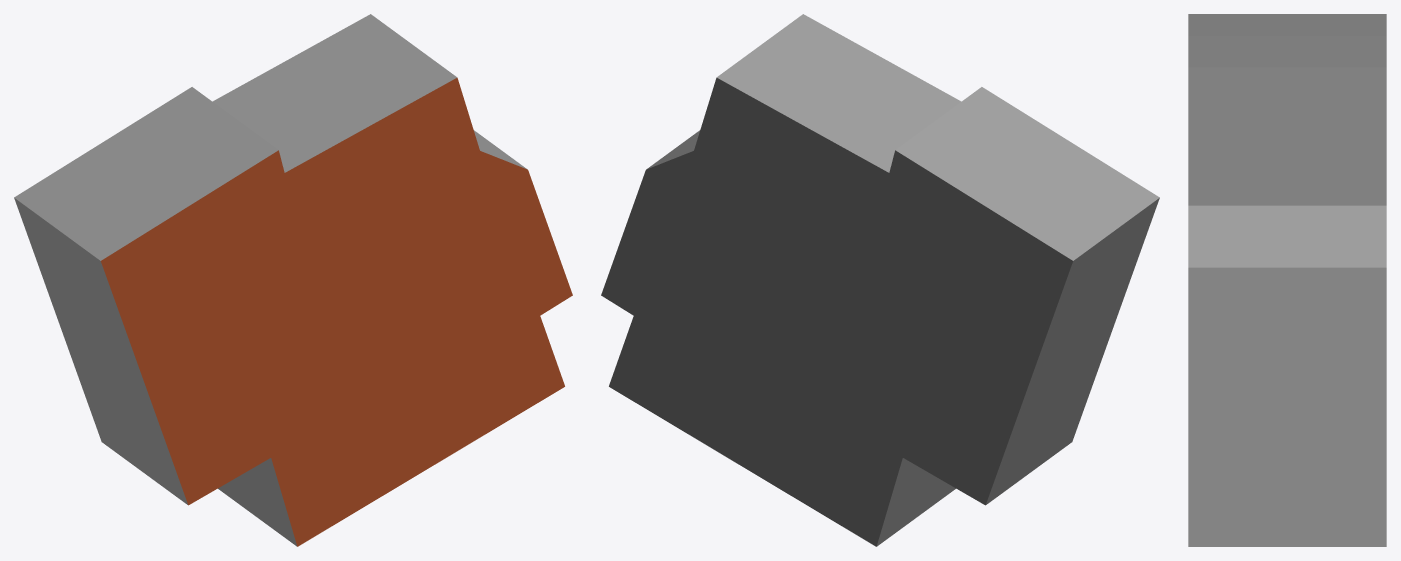
The model's file is construction_1069_assumed_A_Casa_h6m.obj.
3 renders of one model, left to right at view 1: azimuth 30°, elevation 25°; view 2: azimuth 150°, elevation 25°; view 3: azimuth 270°, elevation 25°, orthographic. The views are drawn at different scales.
Parts seen in each view (by area): view 1: construction_1069_assumed_A_Casa; view 2: construction_1069_assumed_A_Casa; view 3: construction_1069_assumed_A_Casa.
Part boxes in pixels (x1=…): construction_1069_assumed_A_Casa: x1=14, y1=14, x2=572, y2=546; construction_1069_assumed_A_Casa: x1=601, y1=14, x2=1159, y2=546; construction_1069_assumed_A_Casa: x1=1188, y1=14, x2=1386, y2=546.
Bounding box in the file's own units: 18.86 × 16.43 × 6.
